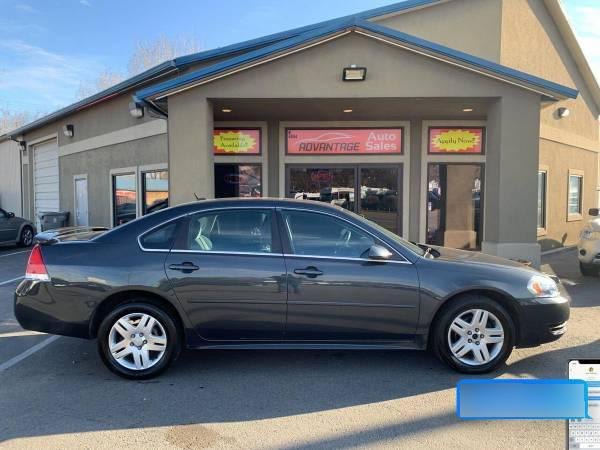Front_Bumper: (511, 297, 572, 349)
Front_Fender: (416, 258, 541, 349)
Front_Right_Door: (283, 258, 420, 350)
Front_Right_Window: (279, 207, 414, 265)
Rear_Bumper: (14, 280, 101, 340)
Rear_Fender: (37, 216, 188, 298)
Rear_Right_Door: (165, 252, 288, 347)
Rear_Right_Window: (170, 209, 283, 258)
Right_Headlight: (528, 273, 563, 297)
Right_Taillight: (22, 244, 50, 282)
Roof: (92, 198, 427, 264)
Wheel: (97, 295, 179, 375), (436, 296, 516, 375)
